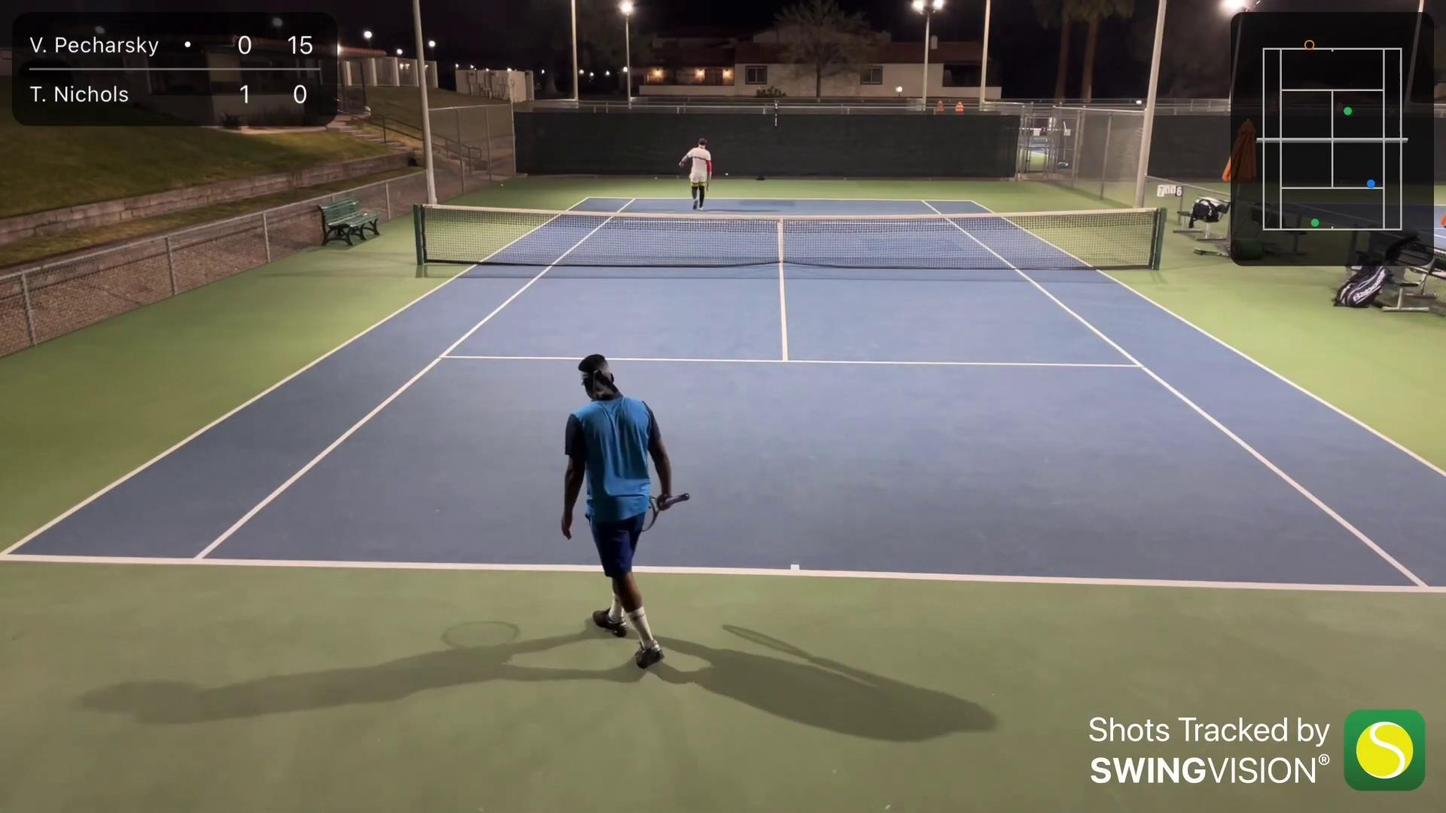ball: (720, 168, 731, 178), (652, 175, 663, 181), (497, 182, 506, 189)
